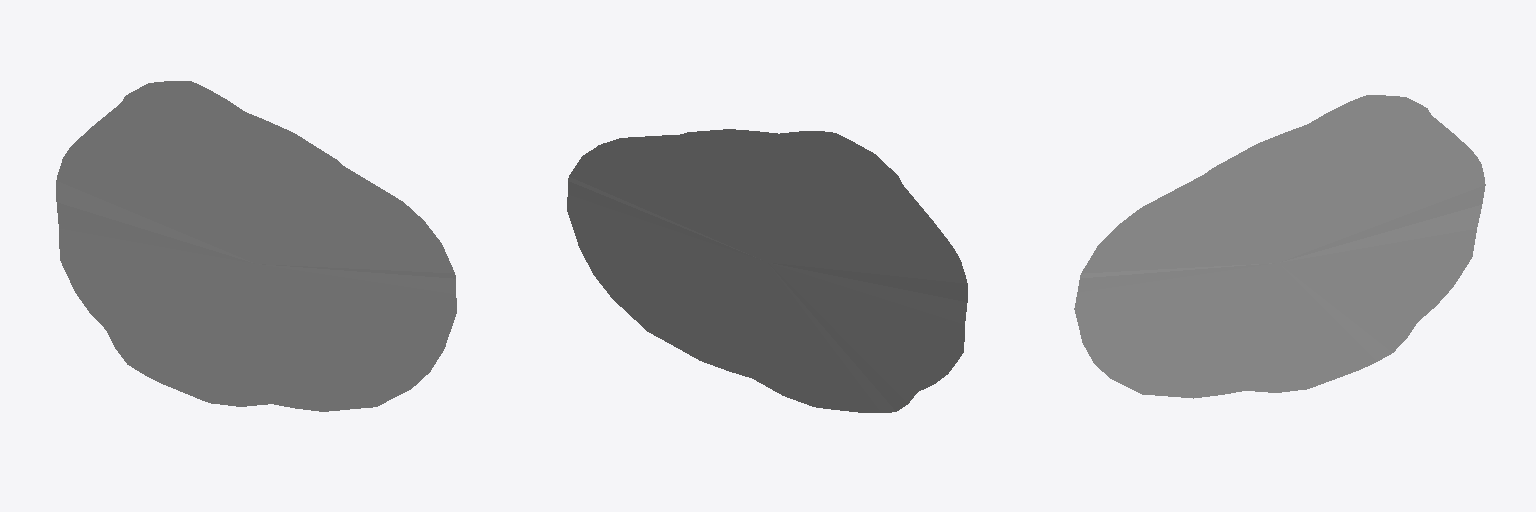
The model's file is HAND_new_134.obj.
3 renders of one model, left to right at view 1: azimuth 30°, elevation 25°; view 2: azimuth 210°, elevation 25°; view 3: azimuth 270°, elevation 25°, orthographic.
Bounding box in the file's own units: 37.01 × 52.84 × 65.97.